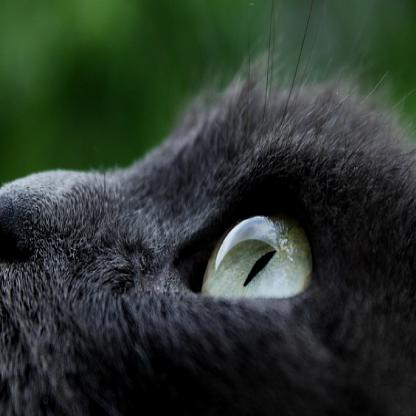cat: (0, 60, 416, 415)
